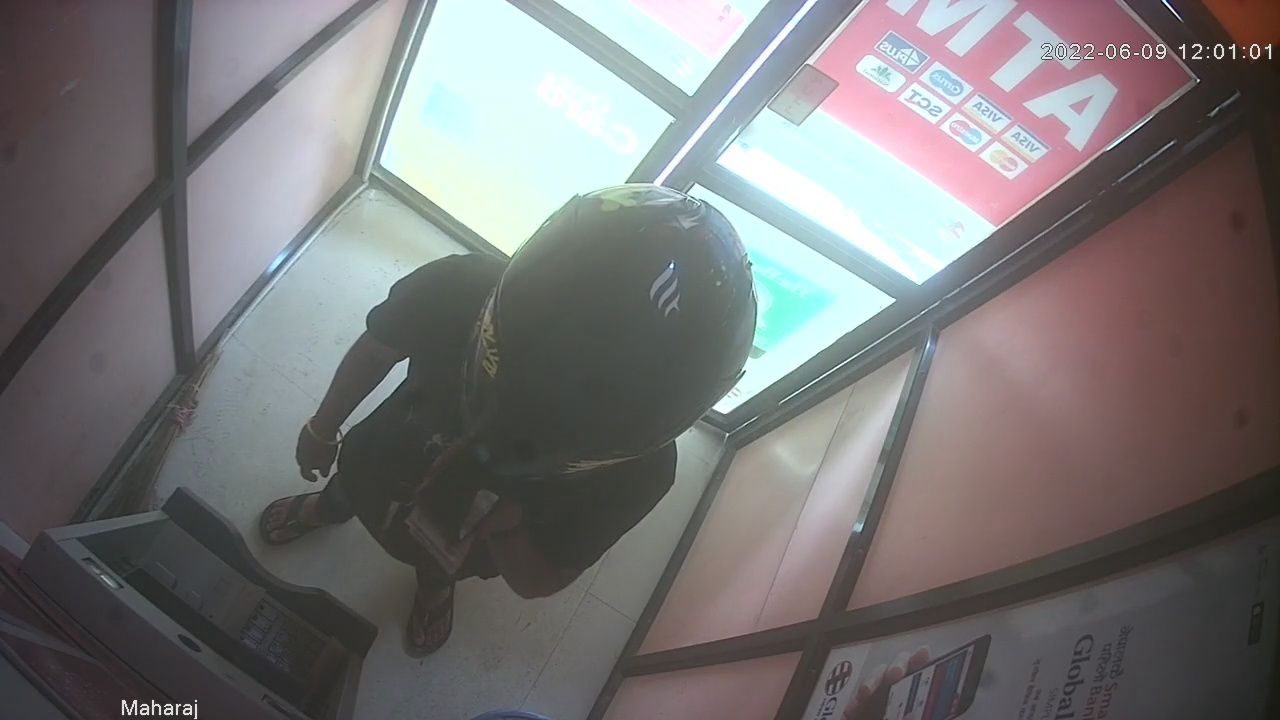helmet: (461, 183, 756, 481)
person: (257, 181, 758, 659)
